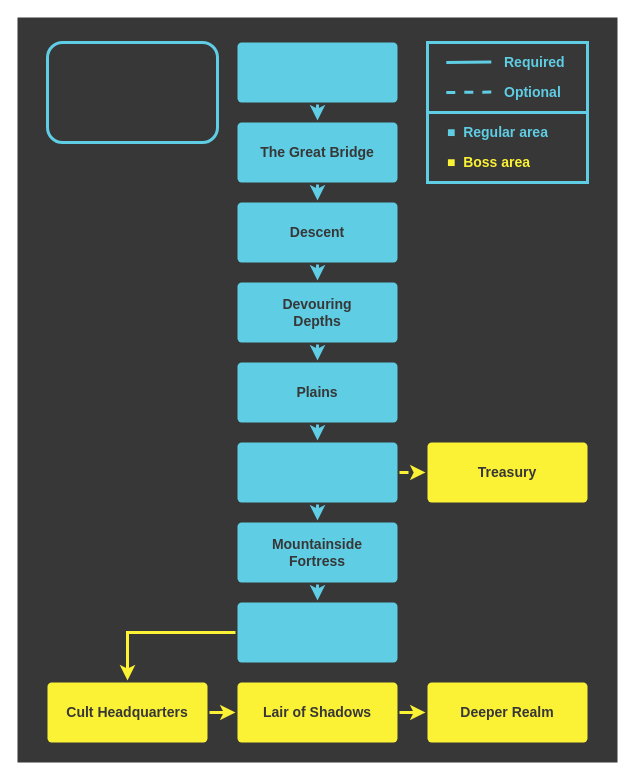
Image size: 634x779. Some labels were removed from this diagram. Here are the shapes that lost their labels. From the top down, the box of each, then its label:
(46, 40, 218, 144): Level progression
(237, 42, 397, 102): Desolation
(237, 442, 397, 502): Floating Isles
(237, 602, 397, 662): Library
